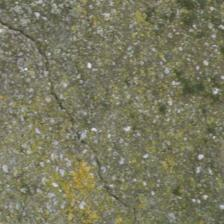Crack: (2, 12, 125, 195)
